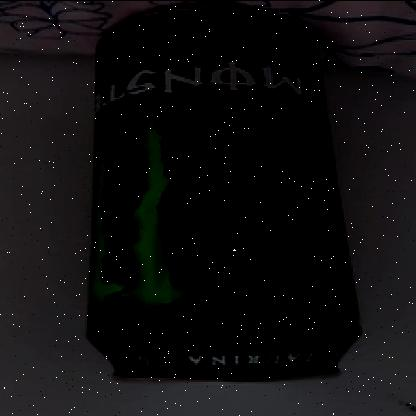Can: (90, 5, 364, 382)
